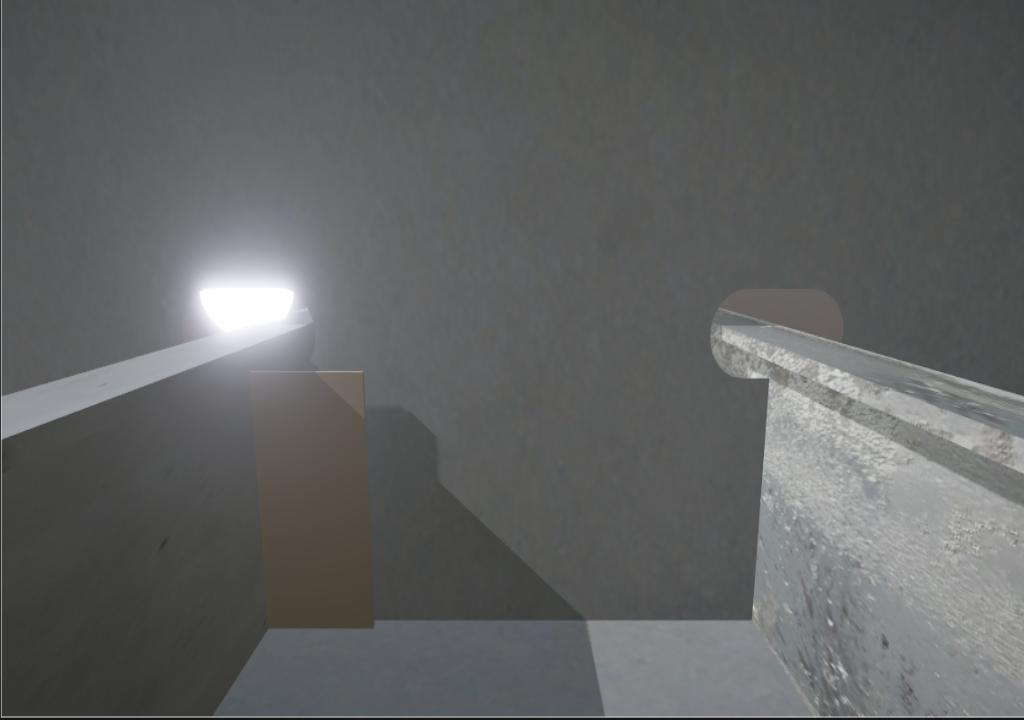fillet_yong_jeop_jang: (378, 611, 758, 629)
longi_yong_jeop_jang: (743, 373, 777, 625)
plate_CP01: (251, 368, 377, 628)
